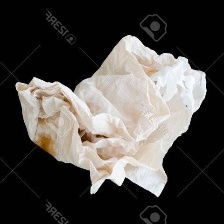tissue: (10, 30, 212, 200)
